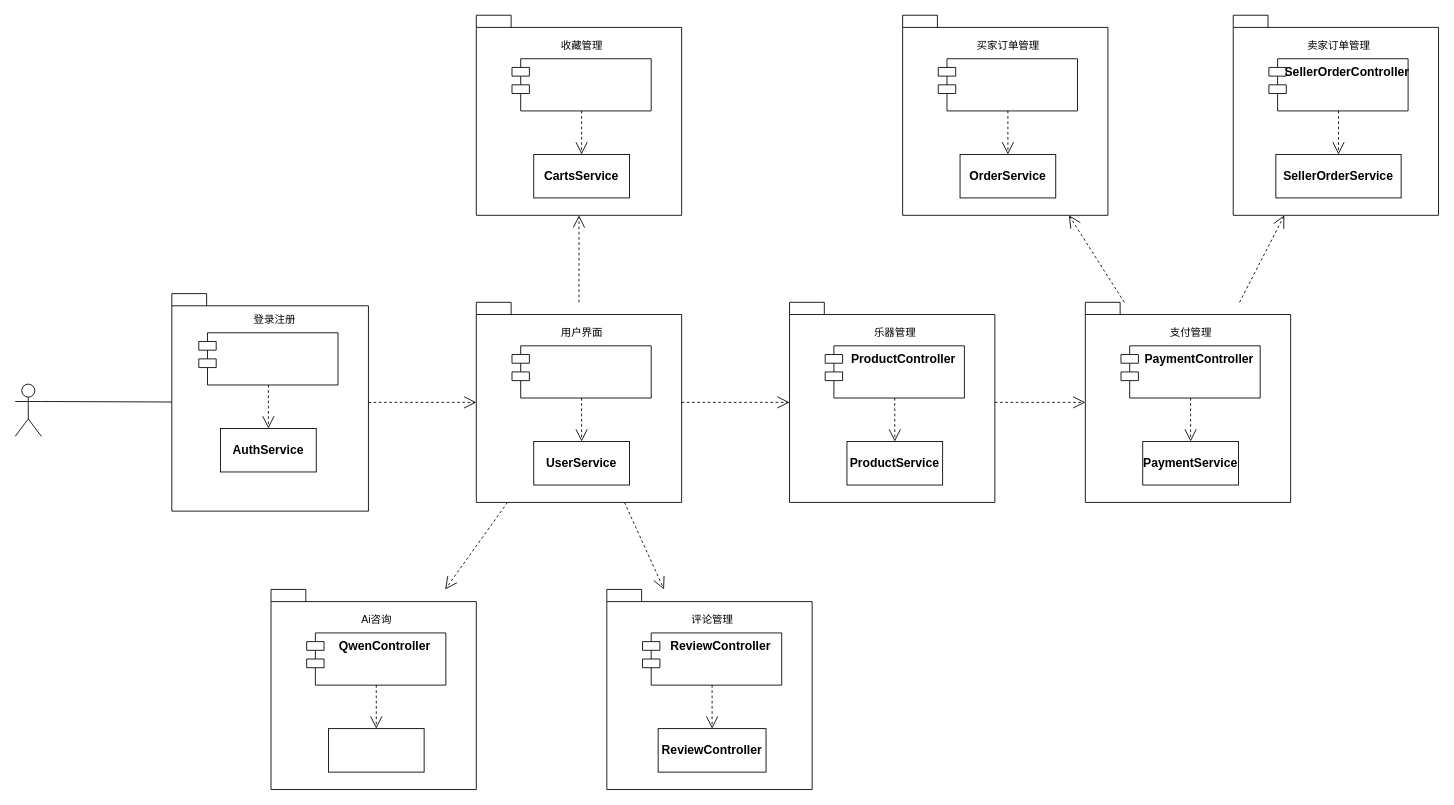
This 1454x805 diagram has some shape labels left out. The centre of each missing label's shape, as x and y in pixels:
AuthController: (x=268, y=358)
CartsController: (x=581, y=84)
OrderController: (x=1007, y=84)
QwenService: (x=376, y=750)
User: (x=27, y=409)
UserController: (x=581, y=371)
